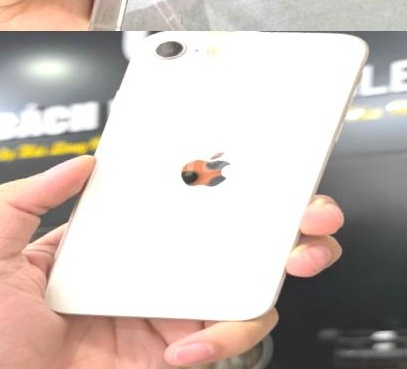scratch: (168, 151, 233, 195)
